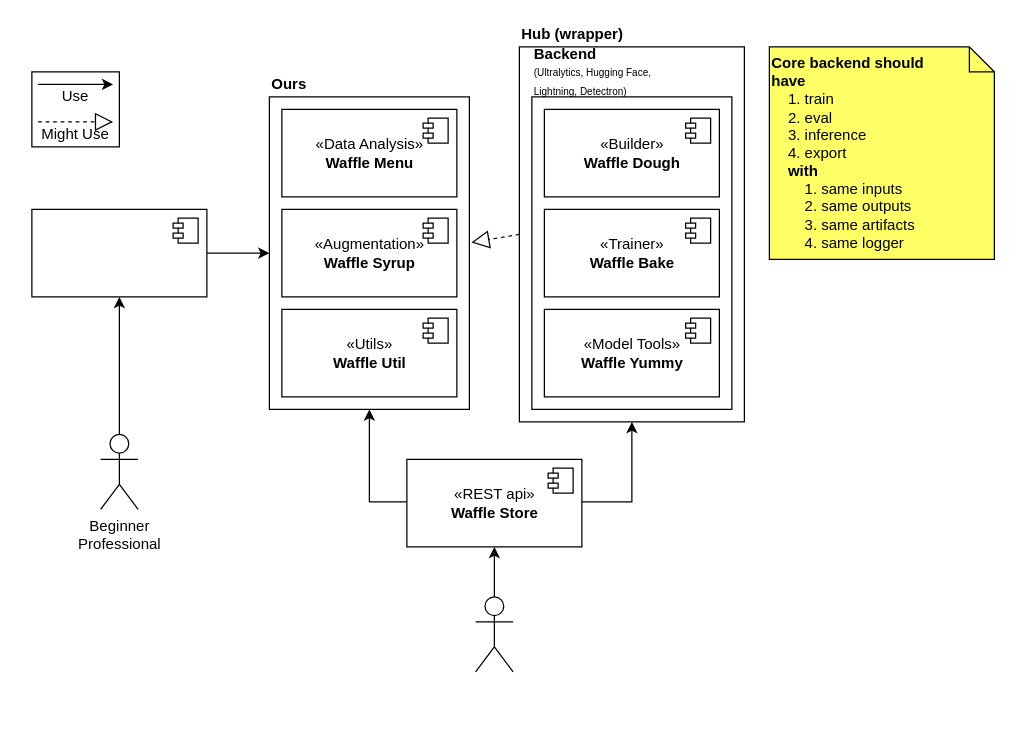
Some shapes in this 1016 by 755 pixel diagram are drawn without their labels. Here are the shapes that lost their labels. From the top down, the centre of each, then its label:
At (119,252): "«Demo» Waffle Sample".
At (493,634): "TX Beginner Professional".
